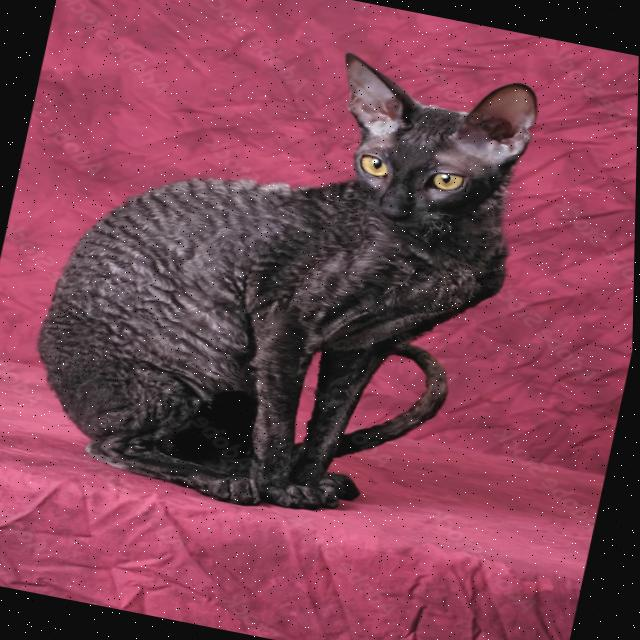Cornish Rex: (0, 0, 556, 551)
